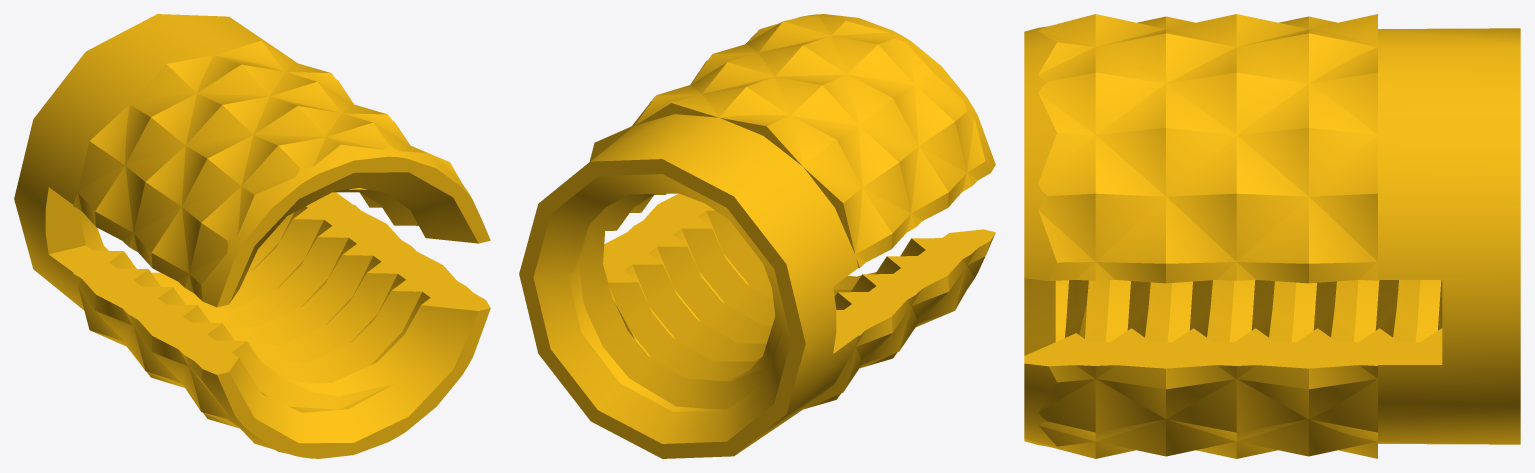
The model's file is Brass_insert_M3_3.obj.
3 renders of one model, left to right at view 1: azimuth 30°, elevation 25°; view 2: azimuth 150°, elevation 25°; view 3: azimuth 270°, elevation 25°, orthographic. The views are drawn at different scales.
Parts seen in each view (by area): view 1: Body1; view 2: Body1; view 3: Body1.
Part boxes in pixels (left/top/right/bottom): Body1: left=14, top=14, right=490, bottom=458; Body1: left=519, top=14, right=995, bottom=458; Body1: left=1024, top=14, right=1520, bottom=458.
Size of the model in its own units: 4.08 by 4.29 by 4.75.
